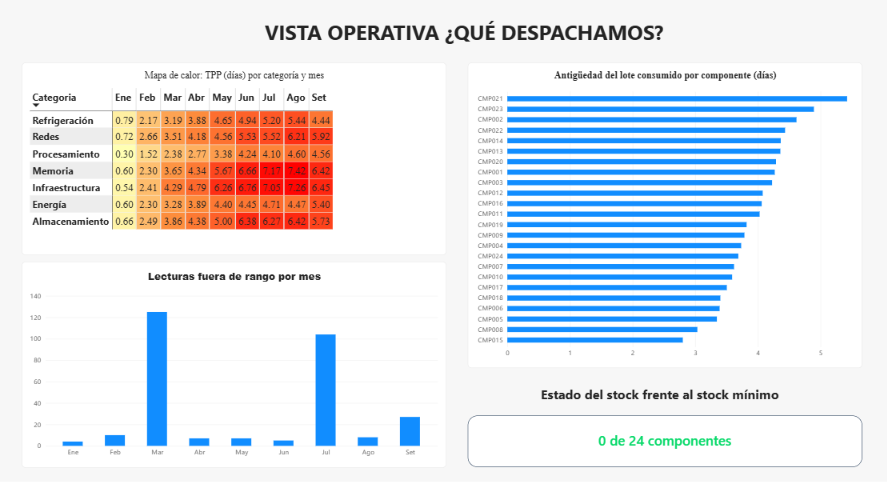

The page's visual inventory and layout, read from the dashboard file:
{"tool":"powerbi","page":{"name":"Operativa","canvas":[1920,1080],"ordinal":1},"visuals":[{"type":"pivotTable","title":"Mapa de calor: TPP (días) por categoría y mes","fields":{"Columns":["Dim_Tiempo.Mes_Corto"],"Rows":["Dim_Producto.Categoria"],"Values":["Fact_Movimiento.TPP"]},"box":[102,142,878,398],"z":0},{"type":"clusteredBarChart","title":"Antigüedad del lote consumido por componente (días)","fields":{"Category":["Dim_Producto.Cod_Componente"],"Y":["Fact_Movimiento.TPP"]},"box":[1024,142,816,632],"z":1000},{"type":"clusteredColumnChart","title":"Lecturas fuera de rango por mes","fields":{"Category":["Dim_Tiempo.Mes_Corto"],"Y":["Fact_Movimiento.N_Anomalias"]},"box":[102,554,878,426],"z":2000},{"type":"card","fields":{"Values":["Fact_Movimiento.Txt_Stock"]},"box":[1024,874,816,106],"z":3000},{"type":"textbox","box":[1176,812,512,48],"z":4000},{"type":"textbox","box":[604,50,840,74],"z":4001}]}

Visuals, with their boxes on the page's 1920x1080 design canvas (x1, y1, x2, y2). These are canvas units, not pixel positions in the 887x482 screenshot, which may show the page scaled, cropped or inside an application window:
"Mapa de calor: TPP (días) por categoría y mes" pivotTable: <box>102,142,980,540</box>
"Antigüedad del lote consumido por componente (días)" clusteredBarChart: <box>1024,142,1840,774</box>
"Lecturas fuera de rango por mes" clusteredColumnChart: <box>102,554,980,980</box>
card - Fact_Movimiento.Txt_Stock: <box>1024,874,1840,980</box>
textbox: <box>1176,812,1688,860</box>
textbox: <box>604,50,1444,124</box>
